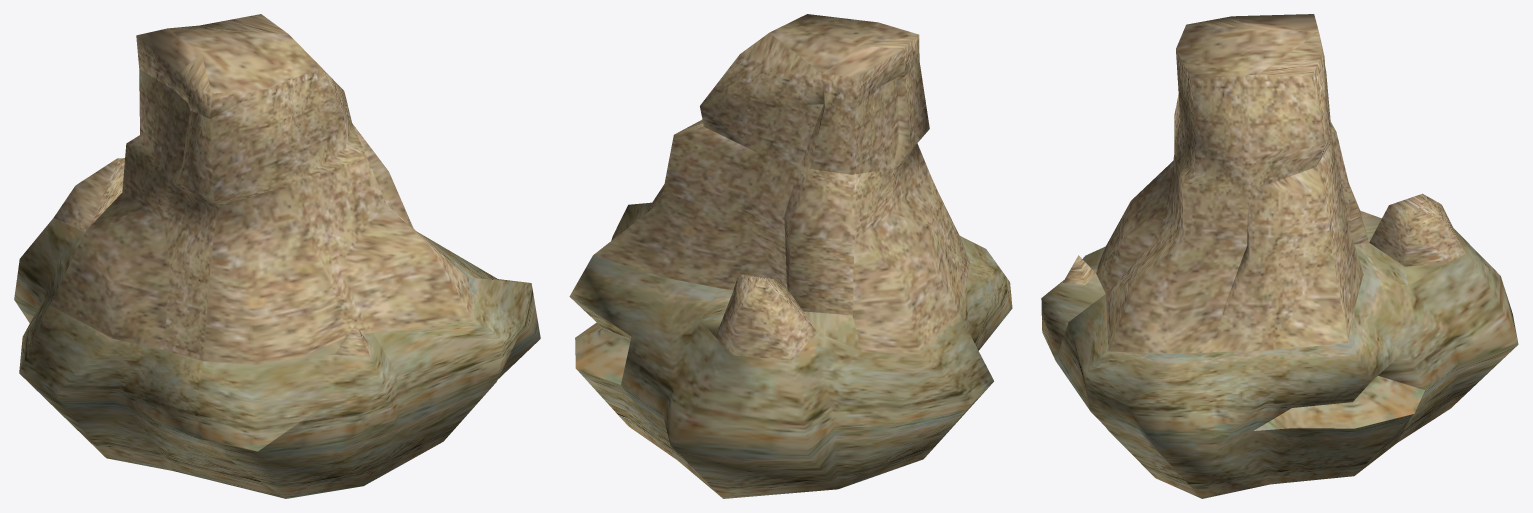
Rendered from dsrt_endr_column_l3.fbx.
3 views of the same model, side by side, from view 1: azimuth 30°, elevation 25°; view 2: azimuth 150°, elevation 25°; view 3: azimuth 270°, elevation 25° (orthographic). The views are drawn at different scales.
Parts seen in each view (by area): view 1: mesh_node; view 2: mesh_node; view 3: mesh_node.
Boxes of the visible parts, x1,y1,x2,y2 form: mesh_node: (14,14,540,498); mesh_node: (569,14,1012,498); mesh_node: (1041,14,1518,498).
Size of the model in its own units: 26.23 by 22.84 by 27.02.
